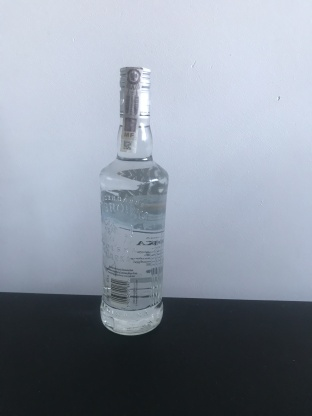nakretka: (117, 62, 153, 123)
